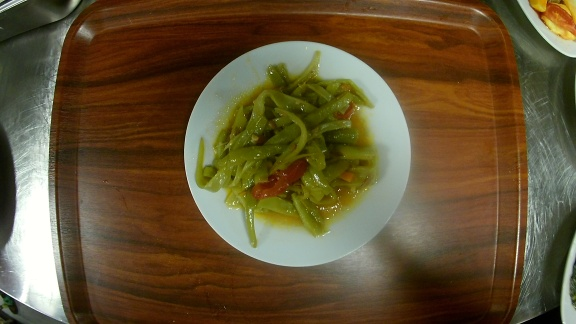tazefasulye: (182, 39, 413, 270)
